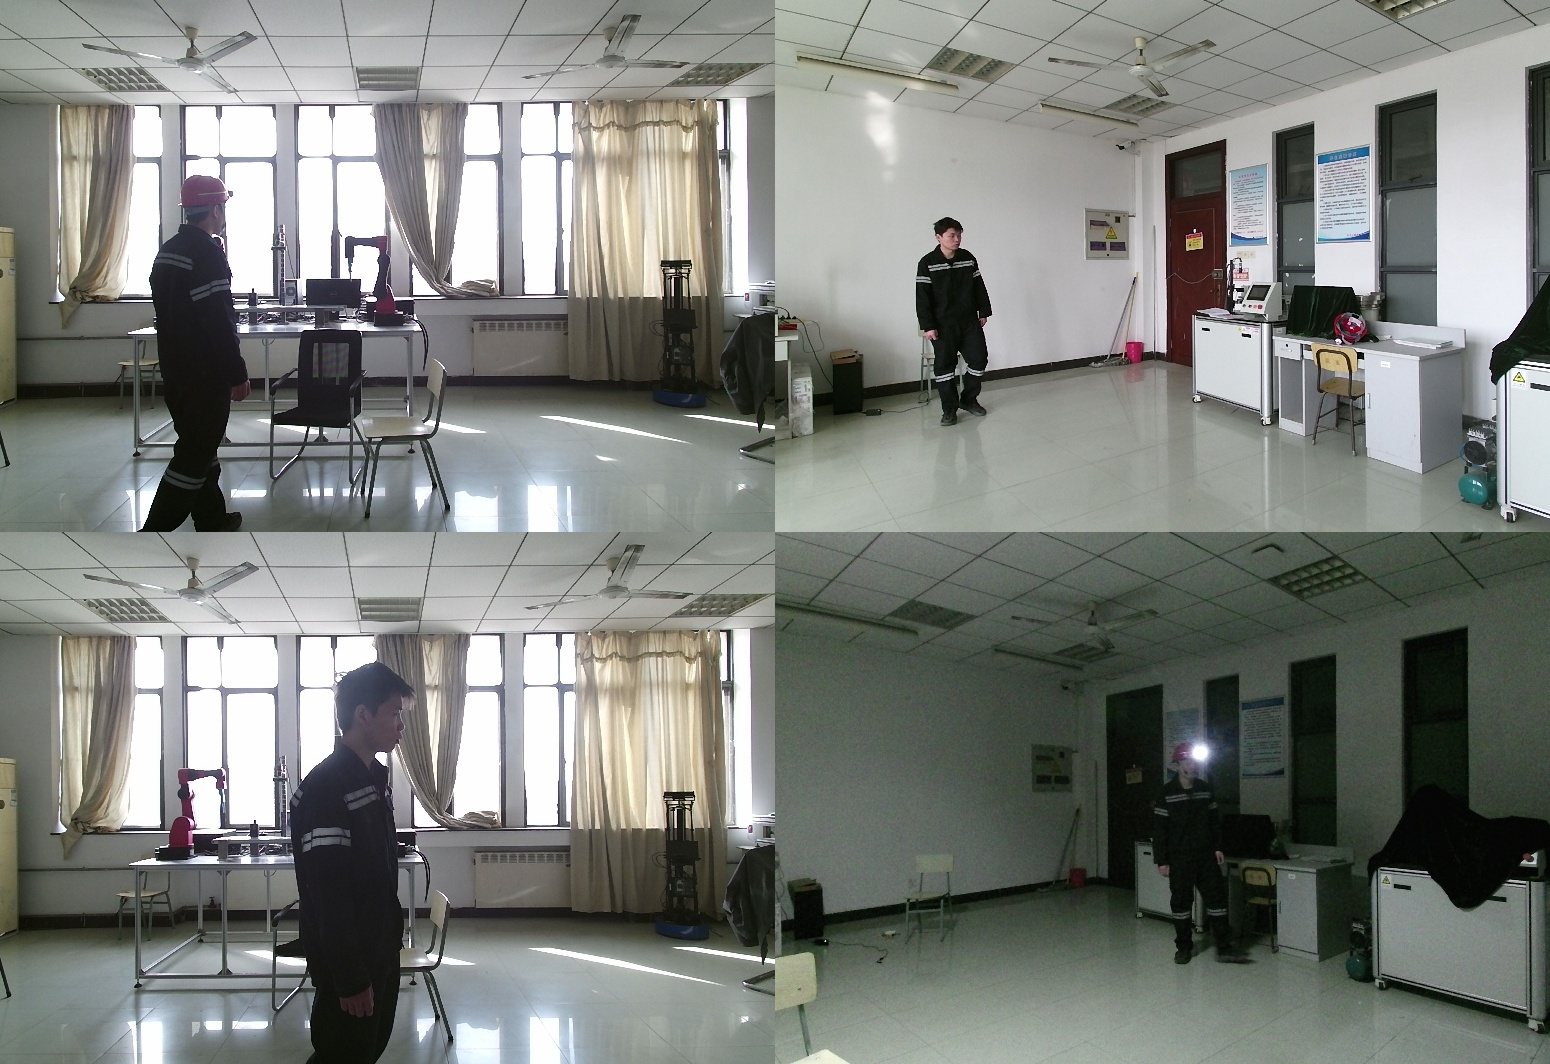person: (295, 663, 429, 1064), (138, 176, 258, 532), (1146, 741, 1237, 975), (908, 217, 1002, 429)
